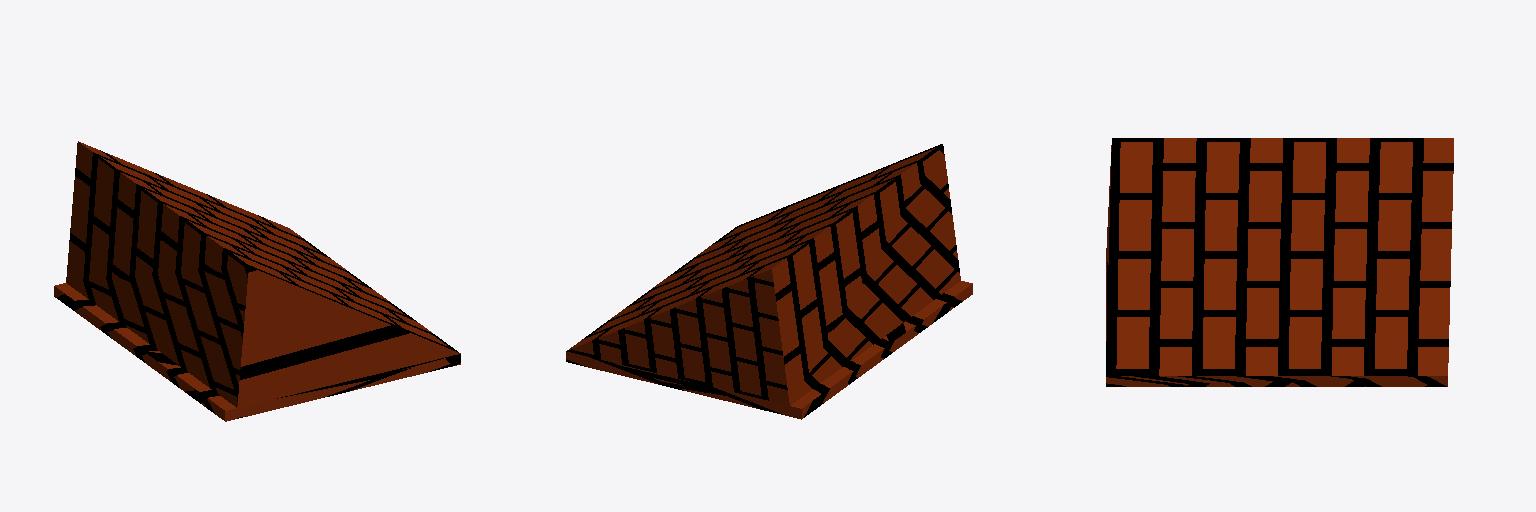
3 renders of one model, left to right at view 1: azimuth 30°, elevation 25°; view 2: azimuth 150°, elevation 25°; view 3: azimuth 270°, elevation 25°, orthographic.
Size of the model in its own units: 9.43 by 5.61 by 12.09.
Materials: 1 (1 with a texture image).